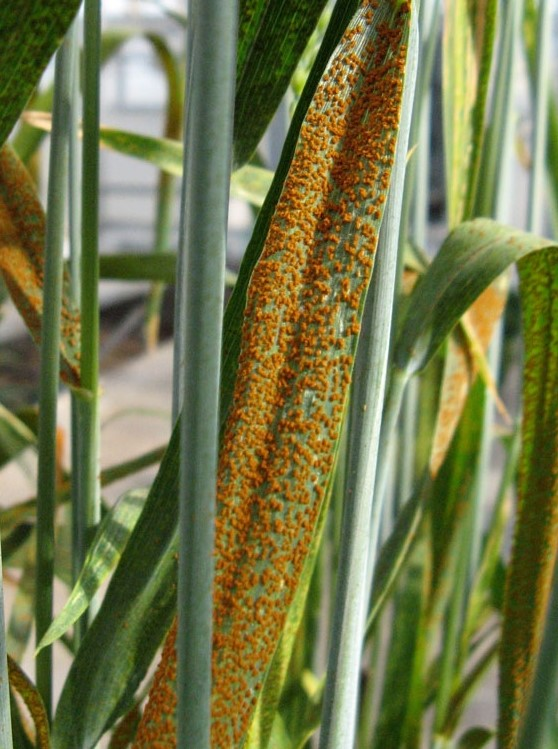Leaf Rust: (224, 17, 420, 570)
